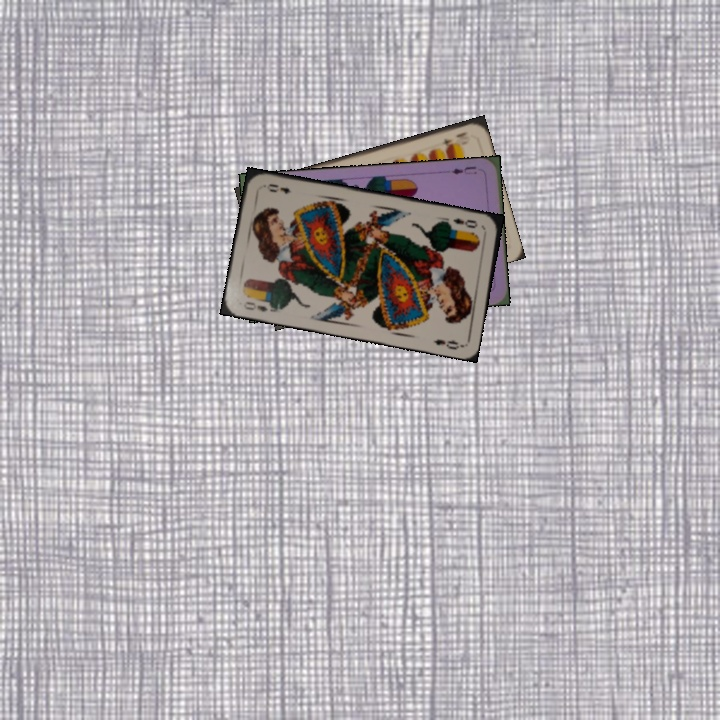E10: (433, 127, 470, 151)
EO: (240, 295, 278, 314), (449, 214, 480, 231)
EU: (447, 162, 479, 177)
